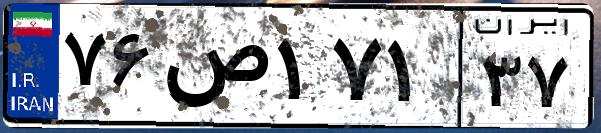1: (270, 28, 330, 110), (385, 28, 445, 110)
3: (475, 38, 525, 113)
6: (110, 28, 158, 98)
7: (330, 28, 385, 110), (57, 26, 110, 100), (525, 38, 570, 115)
ص: (158, 20, 270, 120)
